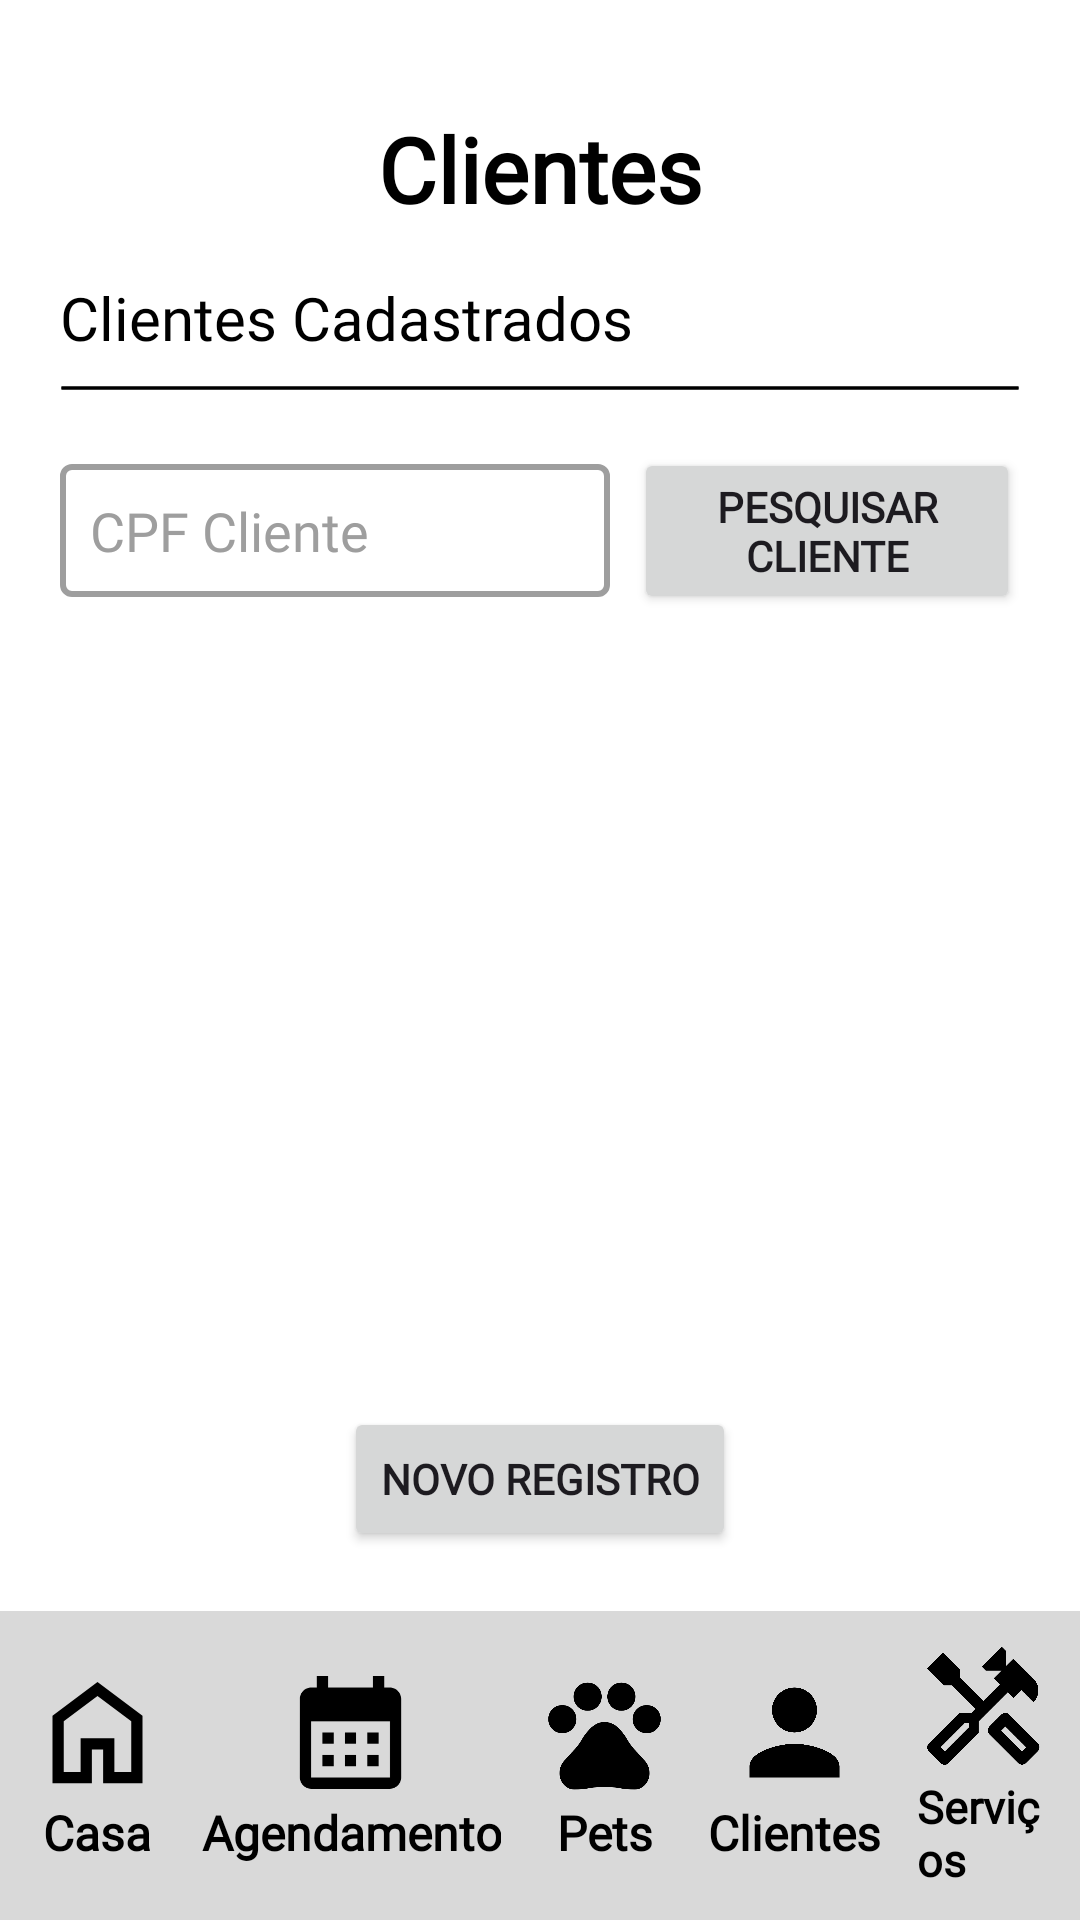

Icon click points for this 1080px x 1920px phone screenshot, format (x,y):
calendar month: (350,1732)
person: (794,1732)
